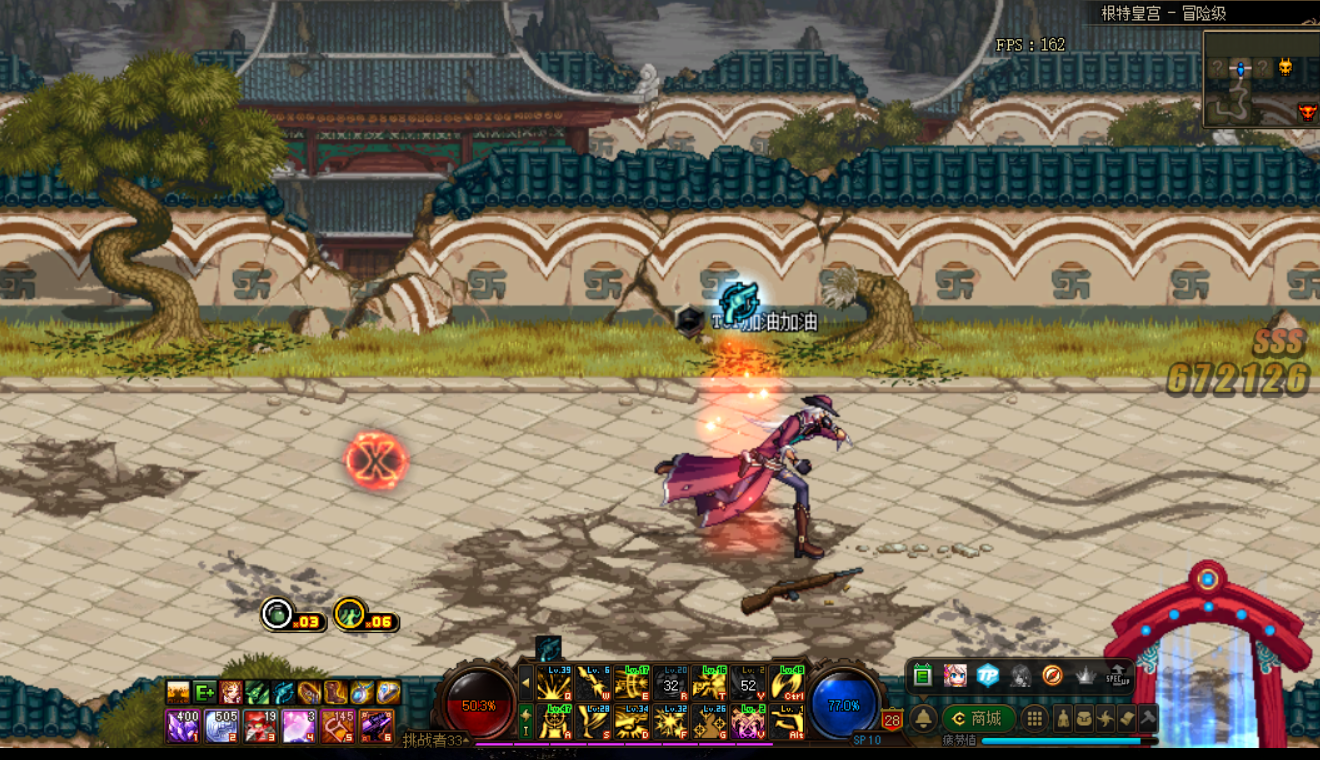warrior: (640, 382, 864, 559)
